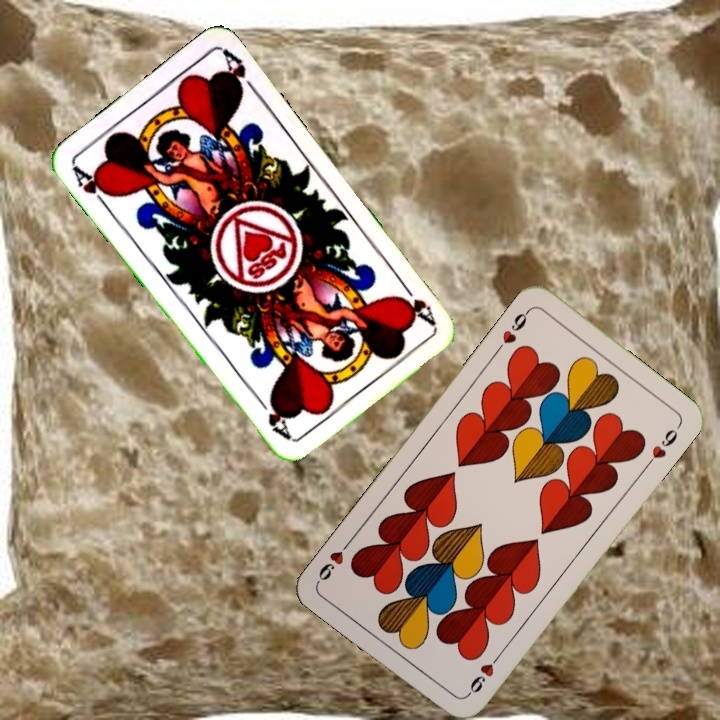H9: (462, 649, 504, 699), (492, 305, 533, 355)
HA: (68, 162, 116, 212), (395, 276, 438, 328)
